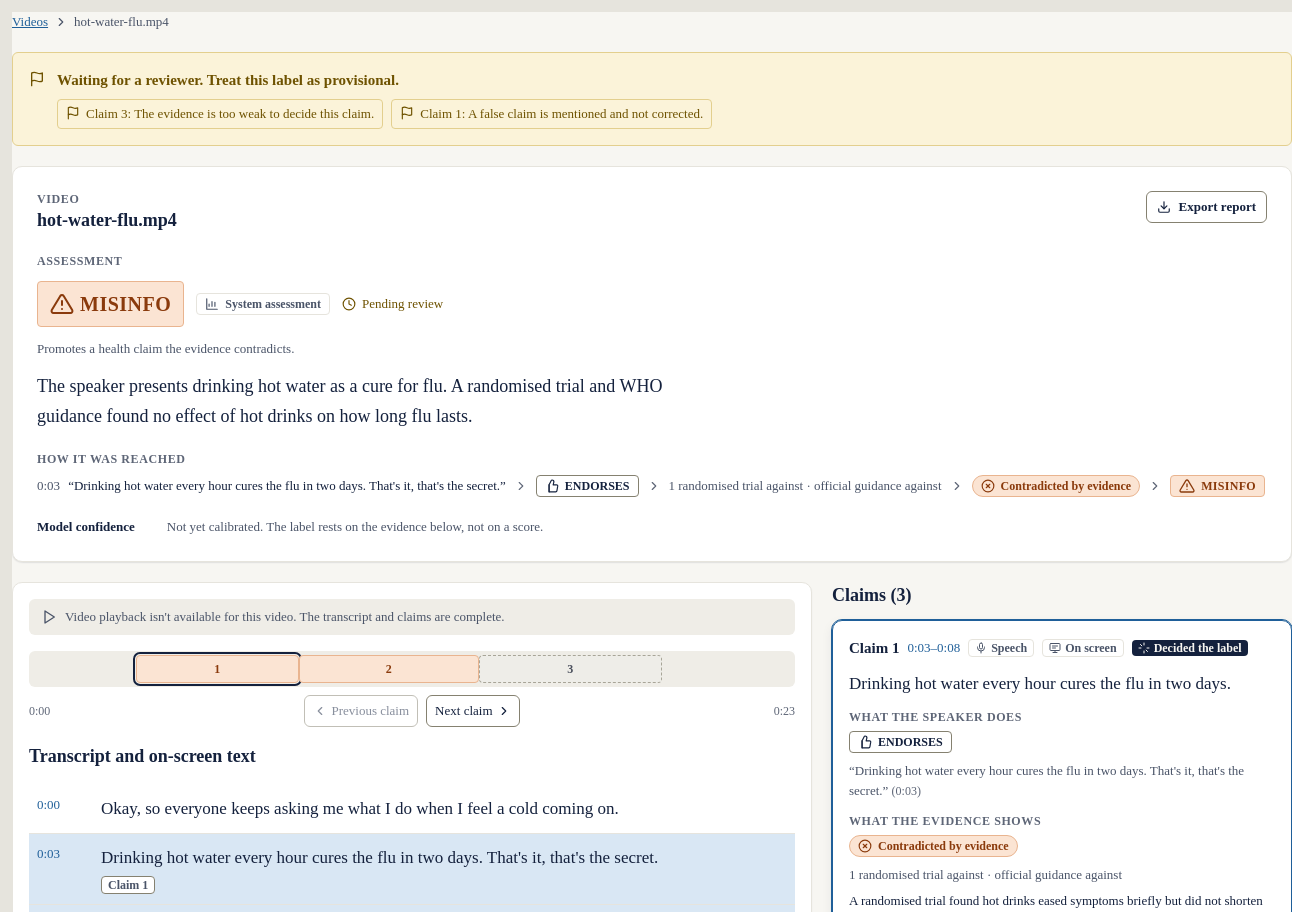
it: ResultView › selects a claim from the timeline, and the previous/next buttons move between claims
Click the button named "Claim 2, 0:08 to 0:13, contradicted by evidence". click: (389, 669)
box: x1=299 y1=655 x2=479 y2=683
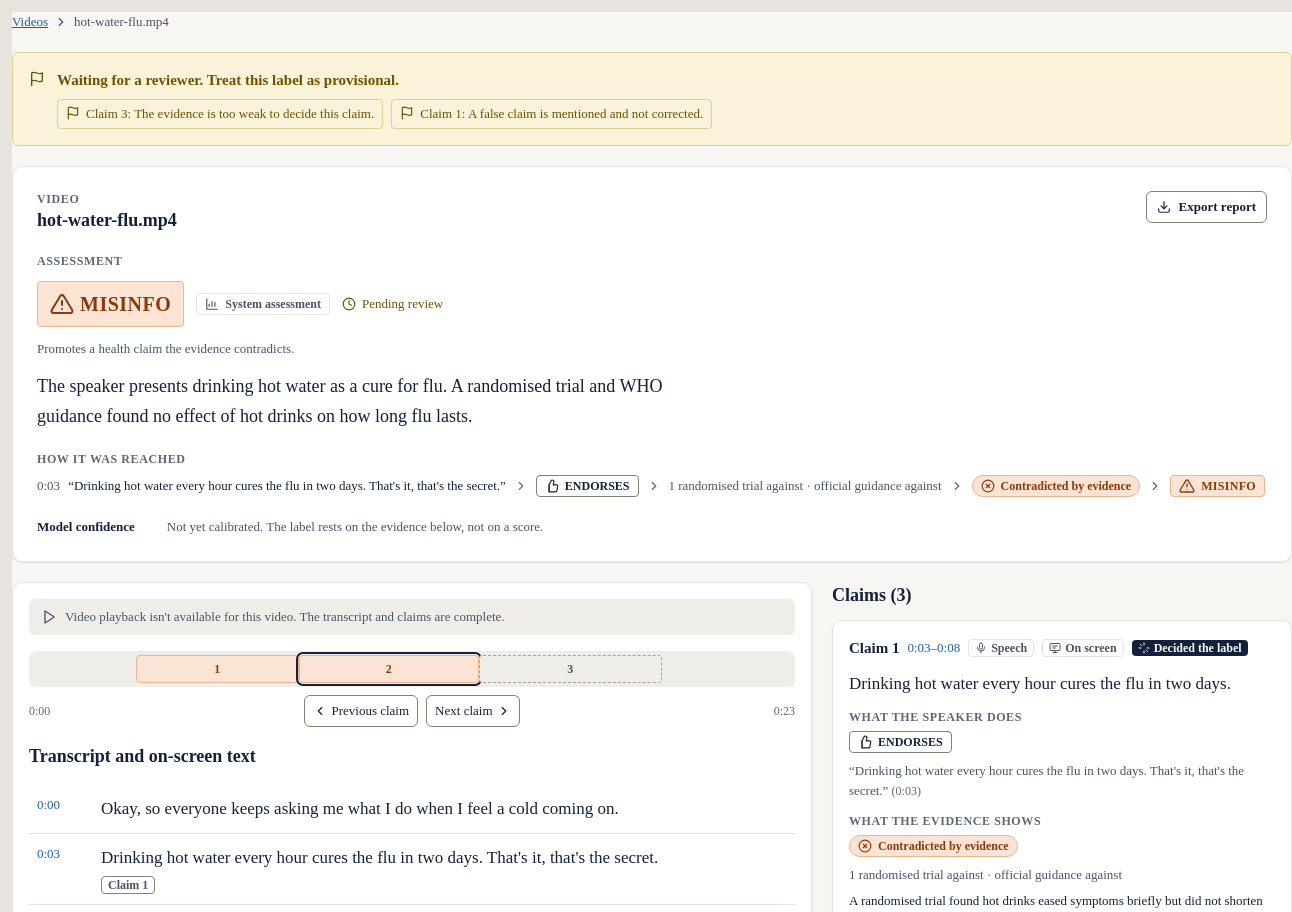
Click the button "Next claim". click: (473, 711)
box: x1=426 y1=695 x2=520 y2=727
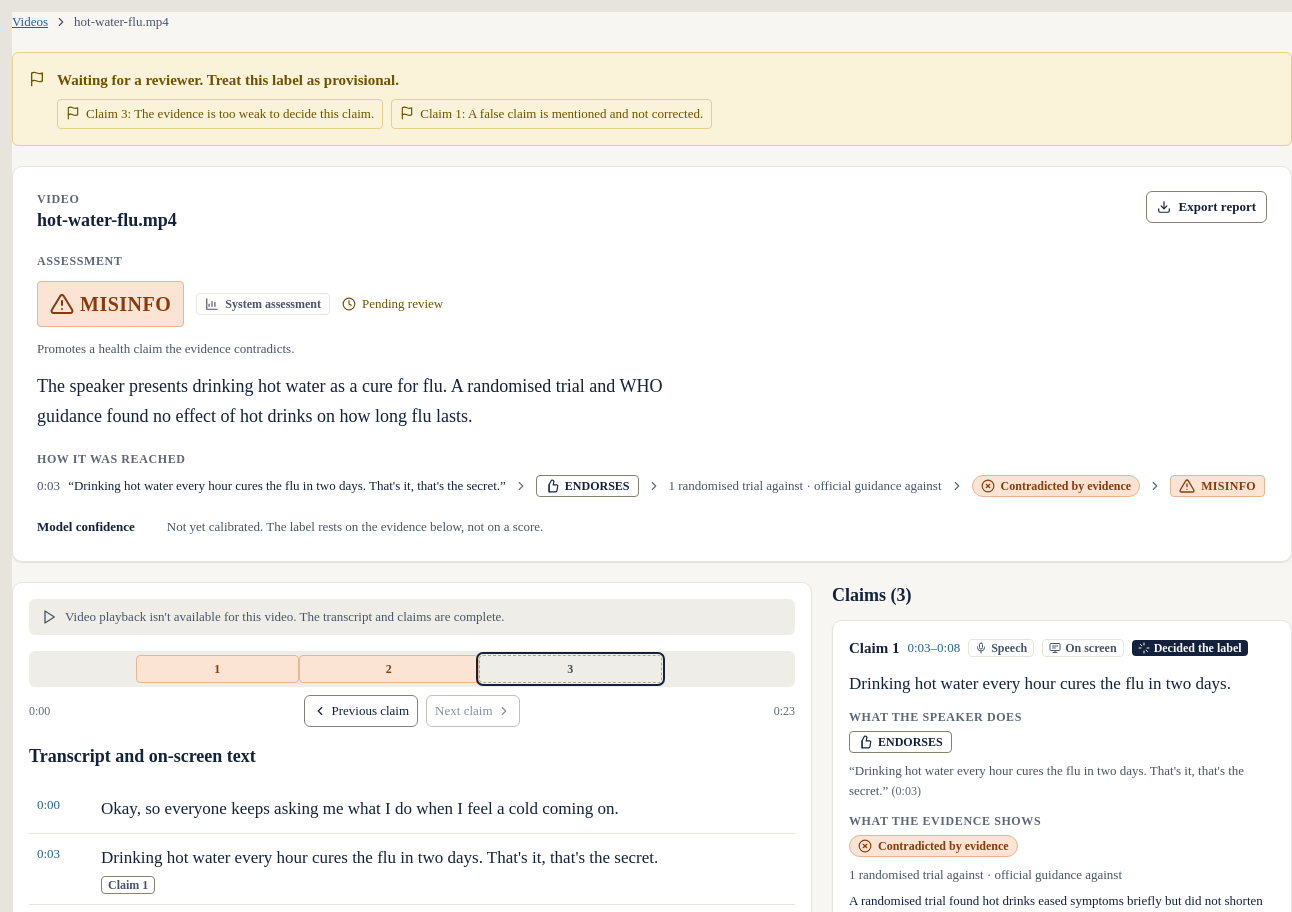
Check: the button "Next claim" is disabled, box x1=426 y1=695 x2=520 y2=727
